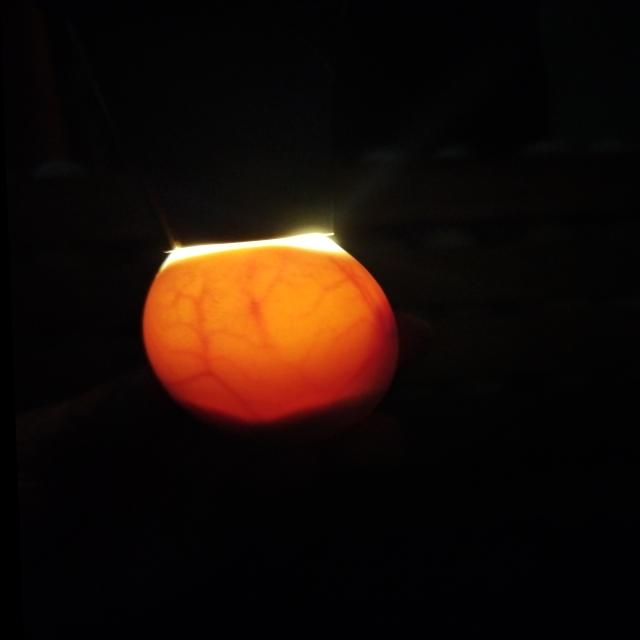Embriao: (175, 315, 394, 459)
